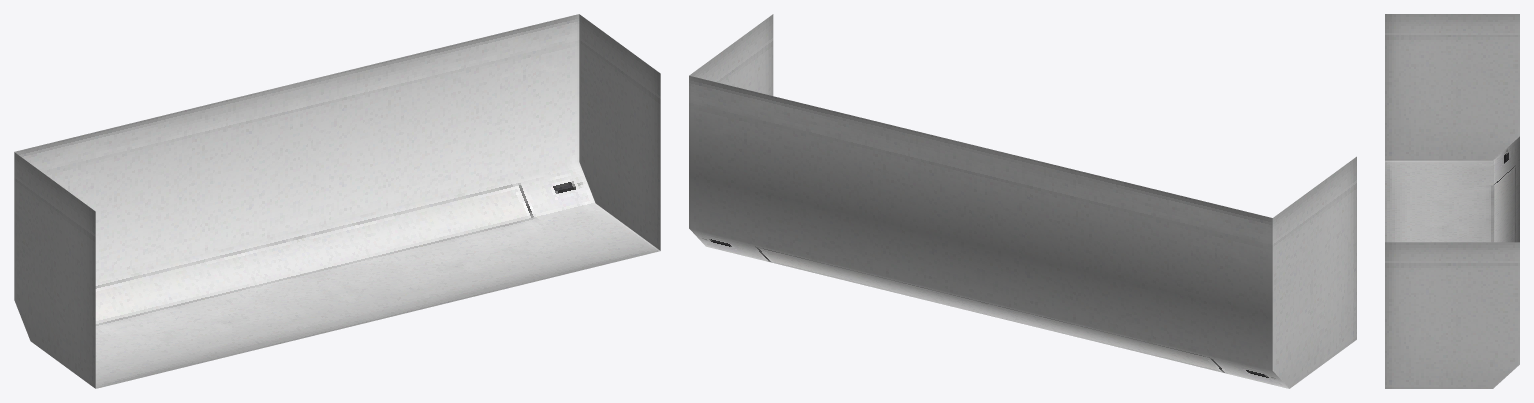
3 views of the same model, side by side, from view 1: azimuth 30°, elevation 25°; view 2: azimuth 150°, elevation 25°; view 3: azimuth 270°, elevation 25° (orthographic). The views are drawn at different scales.
Parts seen in each view (by area): view 1: AC; view 2: AC; view 3: AC.
Part boxes in pixels (x1,y1,x2,y2): AC: (14, 14, 660, 388); AC: (689, 14, 1356, 388); AC: (1385, 14, 1519, 388).
Size of the model in its own units: 0.8 by 0.24 by 0.2.
1 material, 1 textured.
